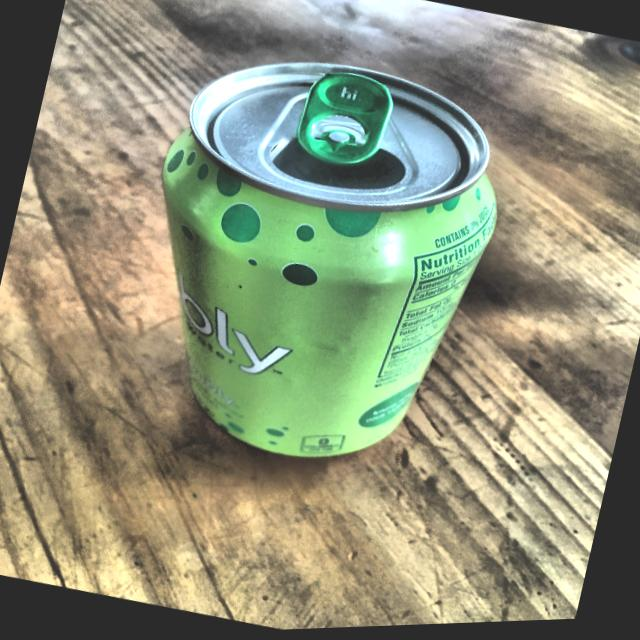Cans: (93, 25, 534, 501)
